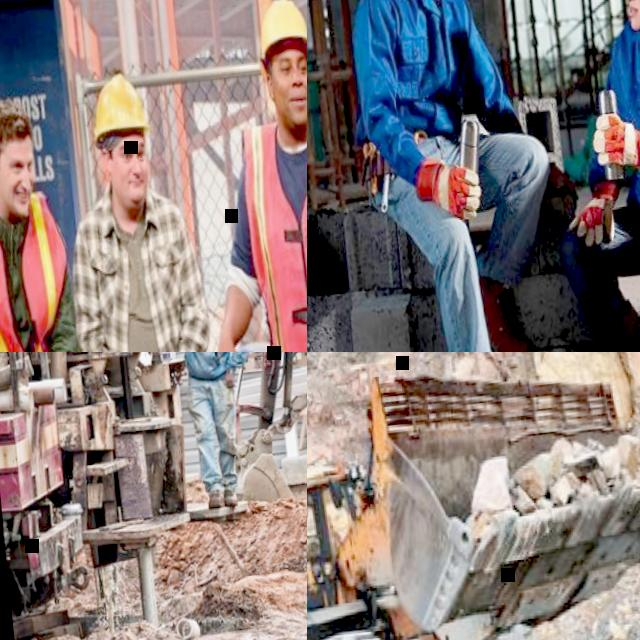Hardhat: (84, 71, 147, 139), (255, 0, 307, 65)
NO-Hardhat: (0, 95, 33, 153)
NO-Mask: (115, 168, 155, 210), (275, 88, 307, 130), (0, 181, 32, 220), (626, 0, 640, 27)
NO-Safety Vest: (371, 0, 486, 142), (91, 191, 186, 352), (611, 13, 640, 195), (176, 352, 230, 377)
Person: (326, 0, 584, 352), (48, 53, 258, 352), (175, 0, 307, 352), (533, 0, 640, 352), (0, 88, 113, 352), (134, 352, 268, 511)
Safety Vest: (233, 101, 307, 352), (0, 172, 84, 352)
vehicle: (307, 352, 640, 640), (205, 352, 307, 606), (0, 352, 96, 618)
